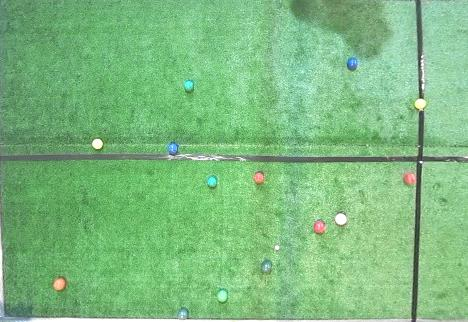blue: (347, 58, 358, 70), (168, 143, 178, 154)
green: (217, 289, 228, 303), (260, 261, 272, 273), (177, 308, 188, 320), (184, 80, 194, 91), (207, 176, 217, 187)
red: (313, 221, 326, 234), (334, 213, 347, 226), (403, 173, 416, 185), (53, 278, 66, 290), (254, 172, 265, 183)
vline: (411, 108, 468, 321), (415, 1, 467, 99), (0, 1, 10, 321)
white: (275, 245, 279, 250)
yellow: (91, 139, 104, 149), (414, 99, 427, 109)
